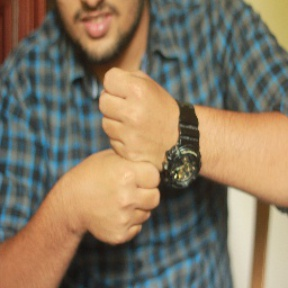G: (76, 63, 184, 253)
